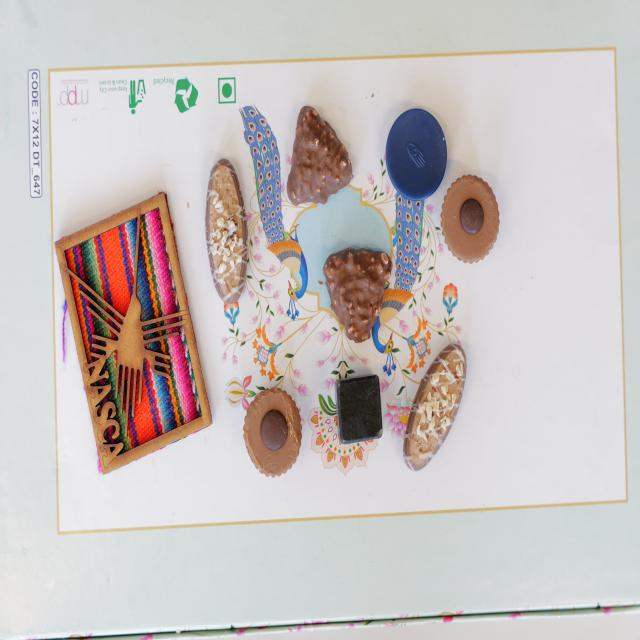Amandina: (403, 346, 467, 472), (206, 155, 249, 306)
Noblesse: (244, 387, 302, 476), (443, 172, 499, 264)
Triangolo: (288, 104, 353, 205), (324, 248, 392, 344)
